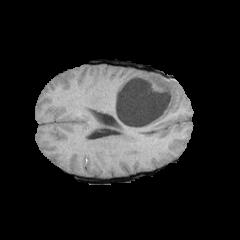glioma: (110, 72, 183, 135)
